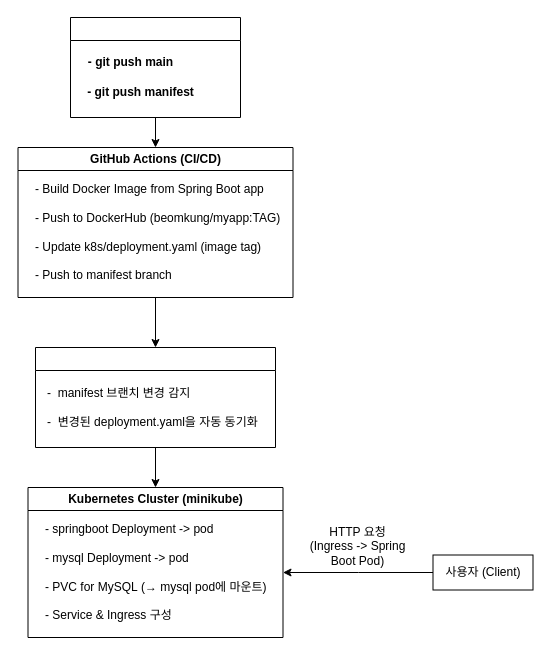
Image size: 550x655. Some labels were removed from this diagram. Each missing label, with the box of its shape:
ArgoCD(CD도구): (34, 346, 276, 448)
Developer (Git): (70, 16, 240, 118)
